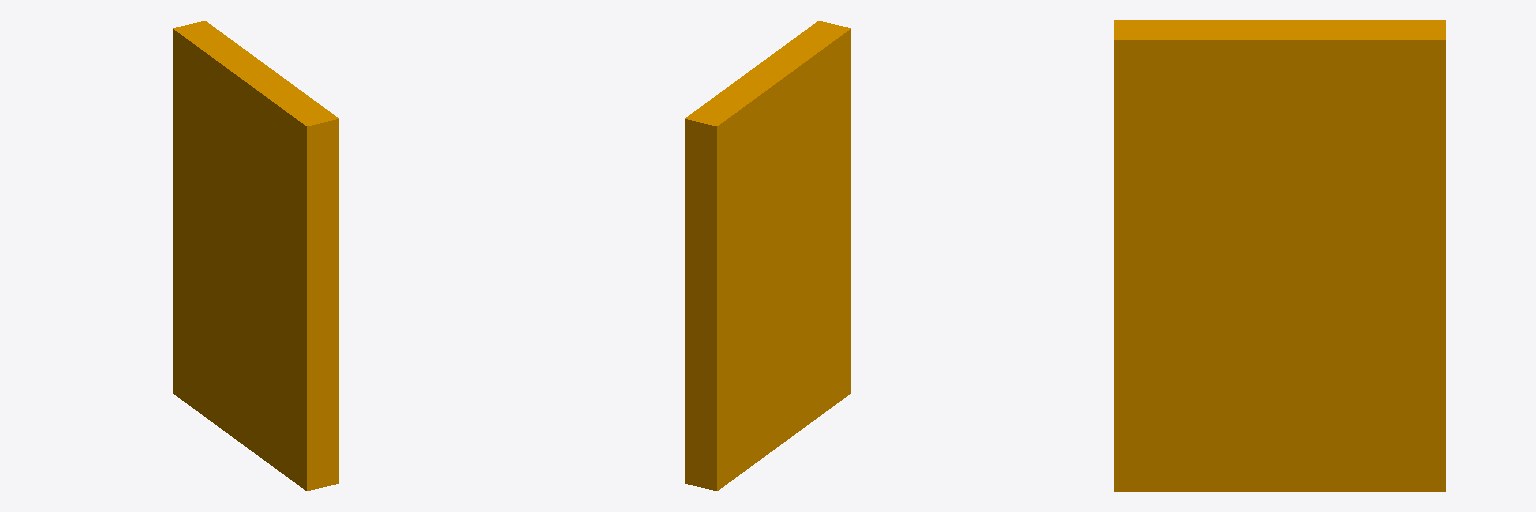
The robot description file, URDF, robot "slab_h":
<?xml version="1.0" ?>
<robot name="slab_h">

<link name="base_link">
  <inertial>
    <origin xyz="0.0 0.0 1.5" rpy="0 0 0"/>
    <mass value="3296.999999999999"/>
    <inertia ixx="2747.5" iyy="2478.1351" izz="280.1351" ixy="-0.0" iyz="0.0" ixz="0.0"/>
  </inertial>
  <visual>
    <origin xyz="0 0 0" rpy="0 0 0"/>
    <geometry>
      <mesh filename="meshes/slab_h.stl" scale="0.001 0.001 0.0005"/>
    </geometry>
    <material name="silver"/>
  </visual>
  <collision>
    <origin xyz="0 0 0" rpy="0 0 0"/>
    <geometry>
      <mesh filename="meshes/slab_h.stl" scale="0.001 0.001 0.0005"/>
    </geometry>
  </collision>
</link>

</robot>

--- Render facts (derived) ---
The picture shows the robot from 3 angles, left to right: view 1: azimuth 30°, elevation 25°; view 2: azimuth 150°, elevation 25°; view 3: azimuth 270°, elevation 25°; orthographic projection.
Model slab_h with 1 links and 0 joints (none), rooted at base_link, posed every joint at zero.
Visible links, largest first — view 1: base_link; view 2: base_link; view 3: base_link.
Link boxes in pixels (<box>): base_link: <box>173,21,338,490</box>; base_link: <box>685,21,850,490</box>; base_link: <box>1114,20,1445,491</box>.
Bounding box of the posed robot: 0.14 × 1 × 1.5 m (x, y, z).
Meshes: 1 distinct files referenced, 1 mesh visuals loaded (1 binary STL).